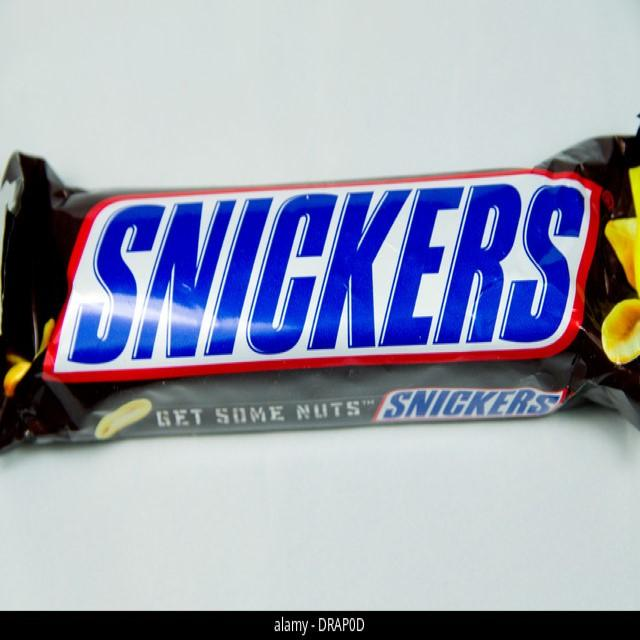snickers_chocolate: (33, 168, 640, 438)
